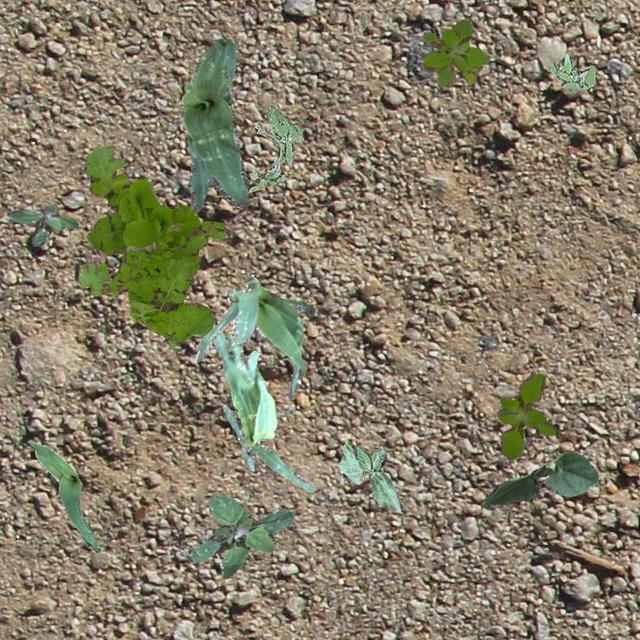crop: (212, 330, 316, 490), (194, 276, 314, 398), (178, 38, 248, 214), (27, 438, 99, 552), (482, 449, 598, 506), (336, 442, 402, 512)
weed: (74, 220, 224, 344), (82, 144, 198, 258), (186, 492, 292, 578), (496, 372, 554, 458), (246, 105, 302, 192), (422, 18, 488, 88), (6, 202, 78, 245), (548, 54, 594, 88)
